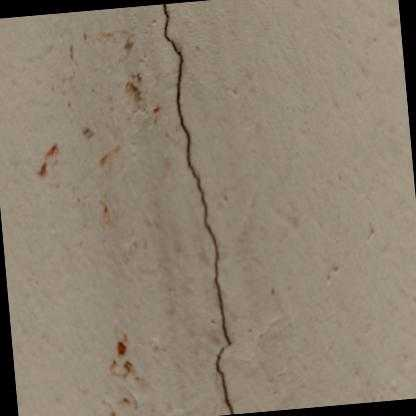crack: (163, 3, 233, 414)
